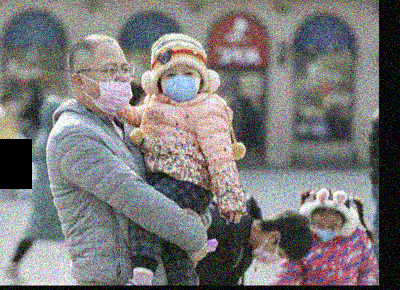mask_weared_incorrect: (82, 59, 135, 117)
with_mask: (158, 66, 202, 102), (248, 245, 288, 265), (312, 217, 341, 242)
